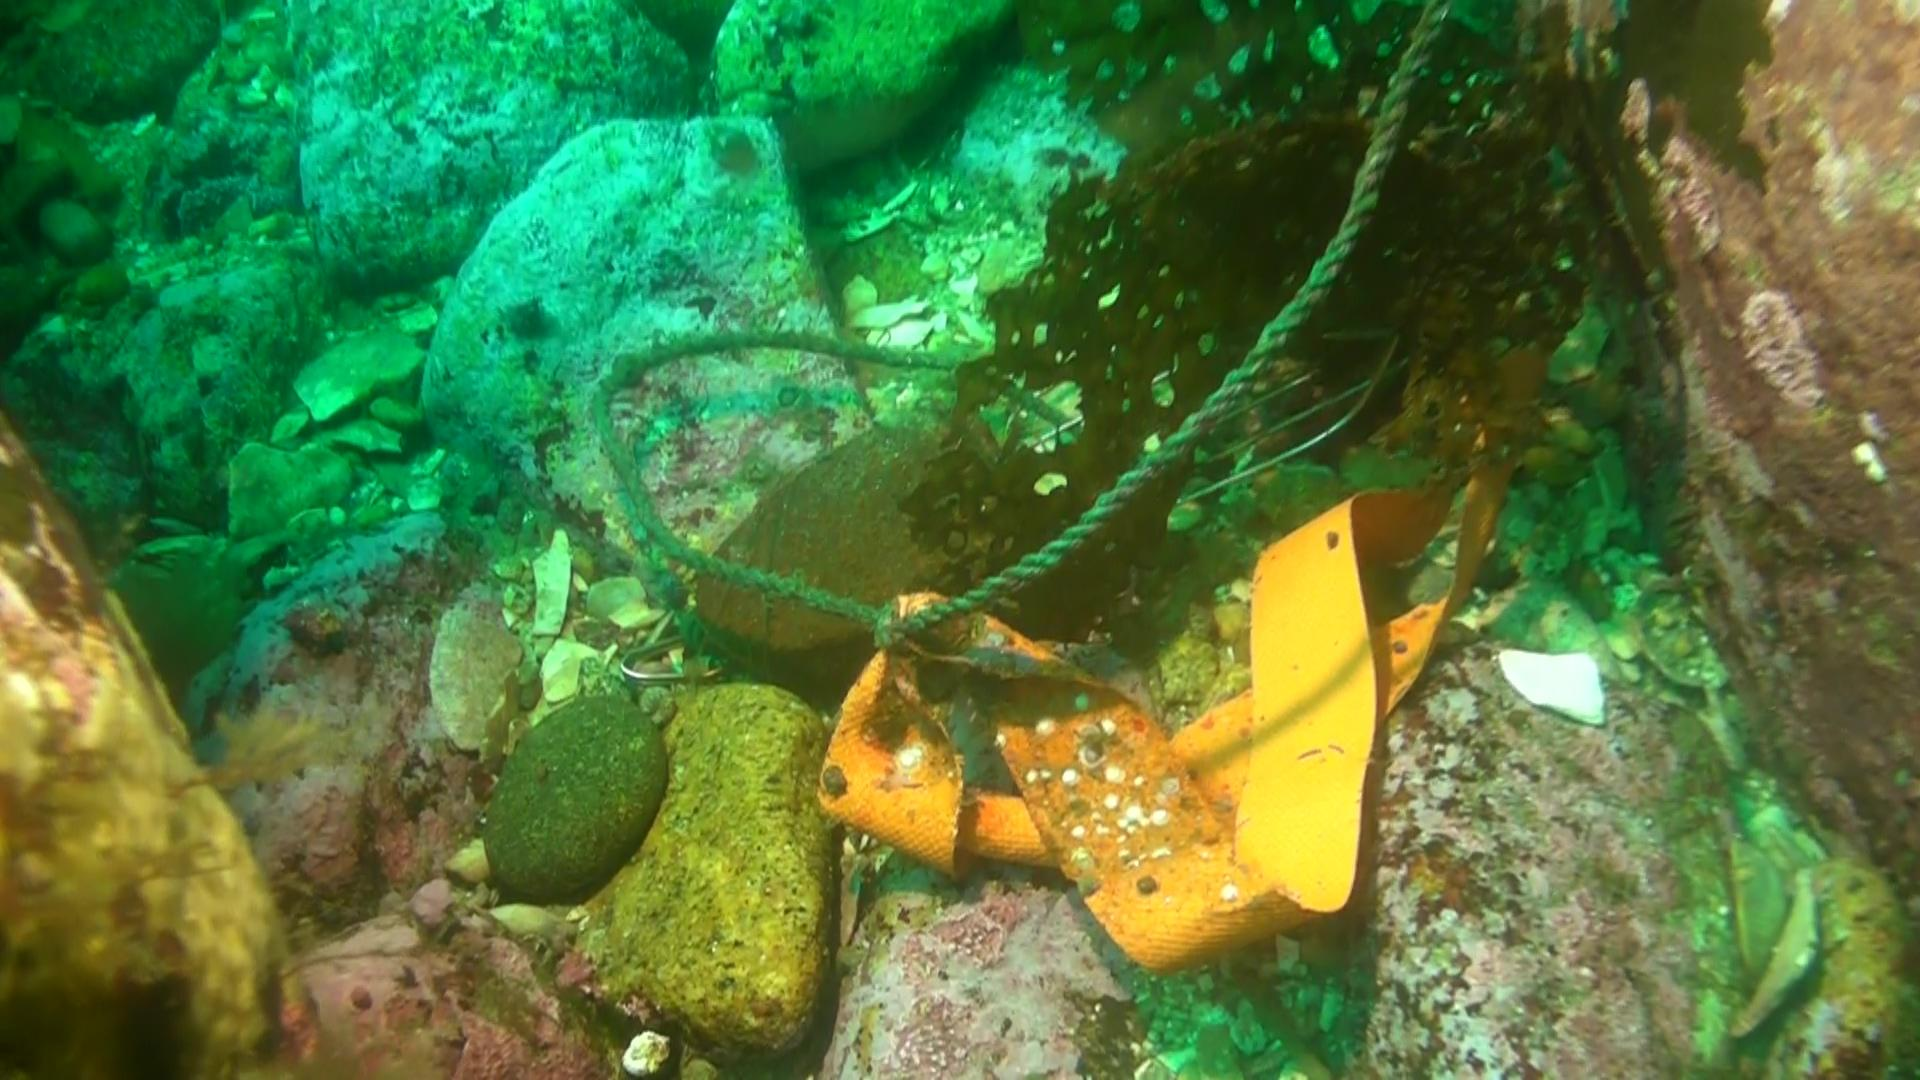rope: (880, 0, 1456, 651)
